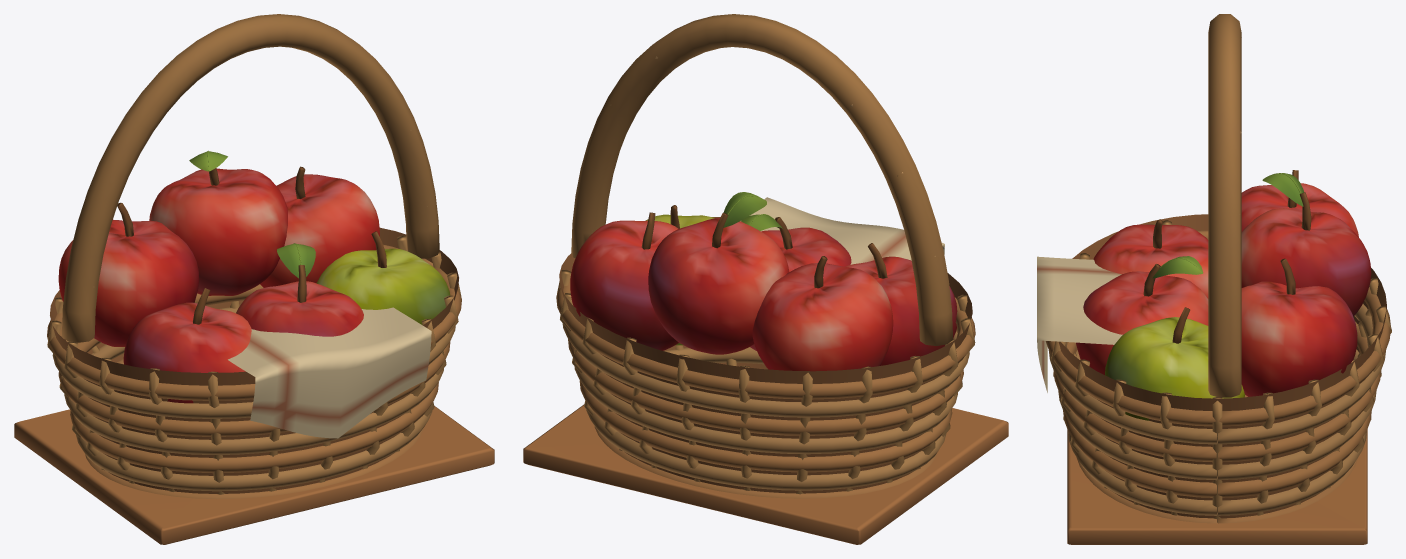
File: apple_basket.glb
The picture shows the model from 3 angles, left to right: view 1: azimuth 30°, elevation 25°; view 2: azimuth 150°, elevation 25°; view 3: azimuth 270°, elevation 25°; orthographic projection.
Parts seen in each view (by area): view 1: Plant; view 2: Plant; view 3: Plant.
Part boxes in pixels (x1,y1,x2,y2): Plant: (14,14,494,544); Plant: (523,14,1008,544); Plant: (1037,14,1391,544).
Size of the model in its own units: 0.709 by 0.7644 by 0.5654.
